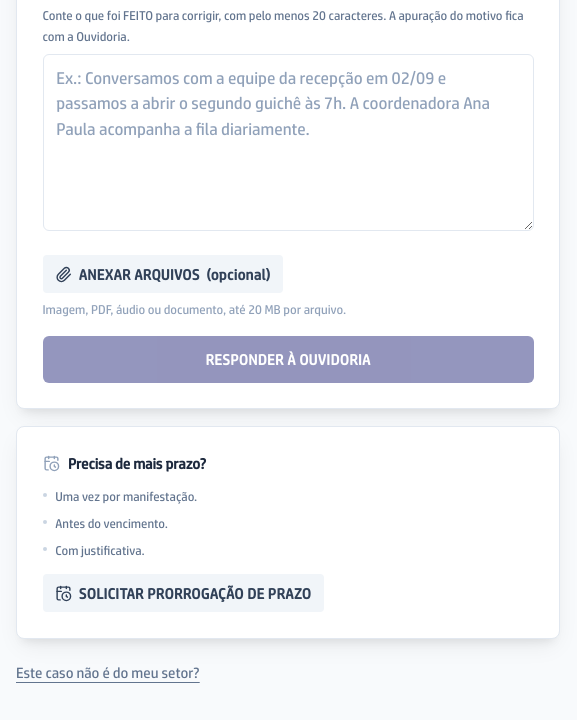
Test case: a Devolução à Ouvidoria (issue #600) › a recusa do servidor fica à vista e o campo continua preenchido
(page scrolled)
Click the button with test id "abrir-devolucao" at (108, 673), box top-left (16, 662), bottom-right (200, 684)
(page scrolled)
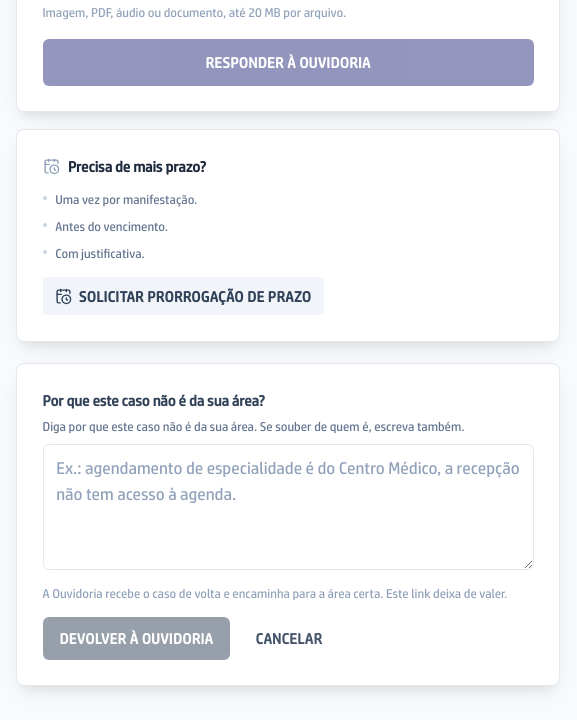
Replace the text in the text box labelled "Por que este caso não é da sua área?" with "É do Centro Médico." at (288, 507), box top-left (42, 444), bottom-right (534, 570)
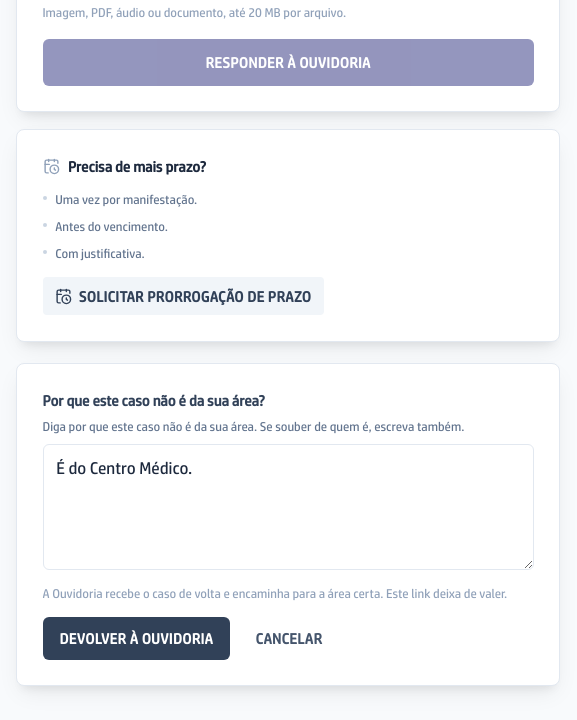
Click the button "Devolver à Ouvidoria" at (136, 638), box top-left (42, 617), bottom-right (230, 660)
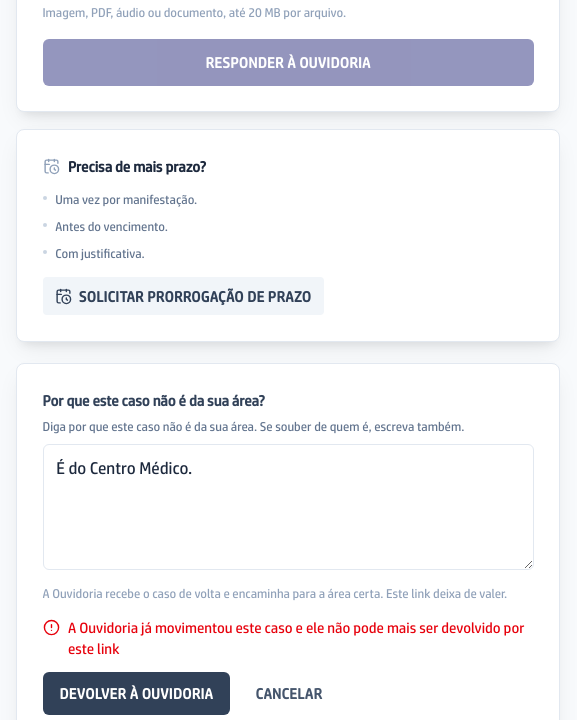
Check: the text "já movimentou este caso" is shown, box top-left (68, 619), bottom-right (524, 657)
